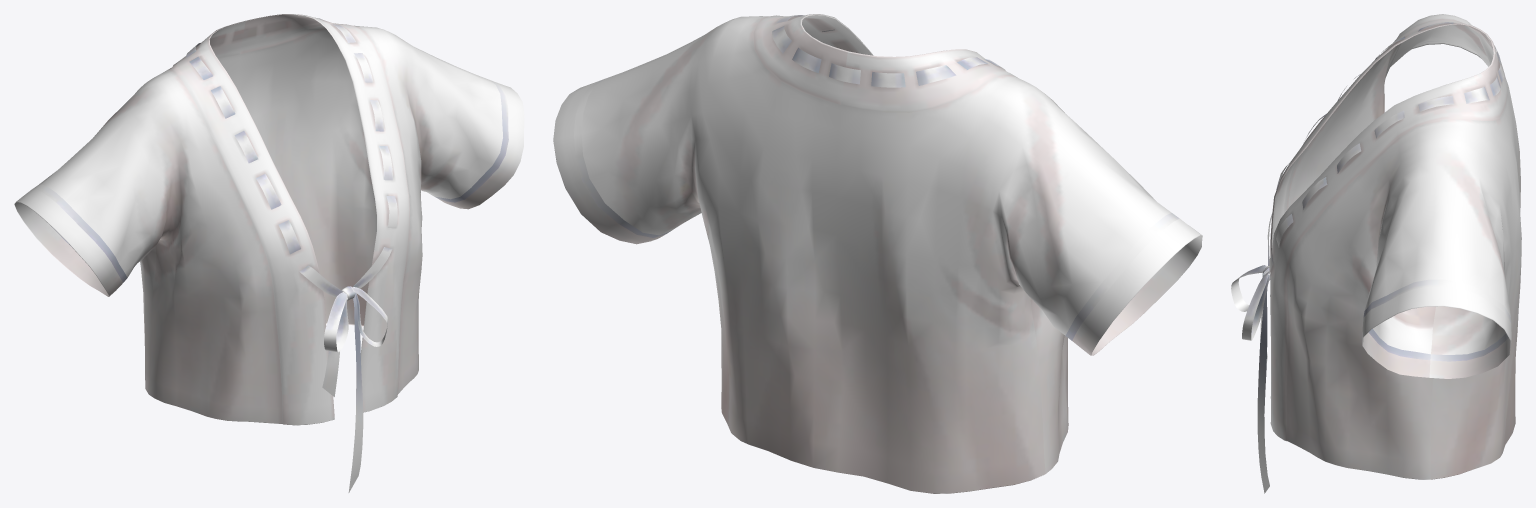
3 renders of one model, left to right at view 1: azimuth 30°, elevation 25°; view 2: azimuth 150°, elevation 25°; view 3: azimuth 270°, elevation 25°, orthographic. The views are drawn at different scales.
Parts seen in each view (by area): view 1: PC00009_02_geo, PC00009_03_geo; view 2: PC00009_02_geo, PC00009_03_geo; view 3: PC00009_02_geo, PC00009_03_geo.
Part boxes in pixels (box(x1,y1,x2,y2)): PC00009_02_geo: box(14, 14, 524, 425); PC00009_03_geo: box(32, 17, 508, 492); PC00009_02_geo: box(553, 14, 1202, 493); PC00009_03_geo: box(574, 15, 1179, 340); PC00009_02_geo: box(1270, 14, 1521, 479); PC00009_03_geo: box(1231, 22, 1511, 493).
Bounding box in the file's own units: 0.4469 × 0.3521 × 0.2093.
